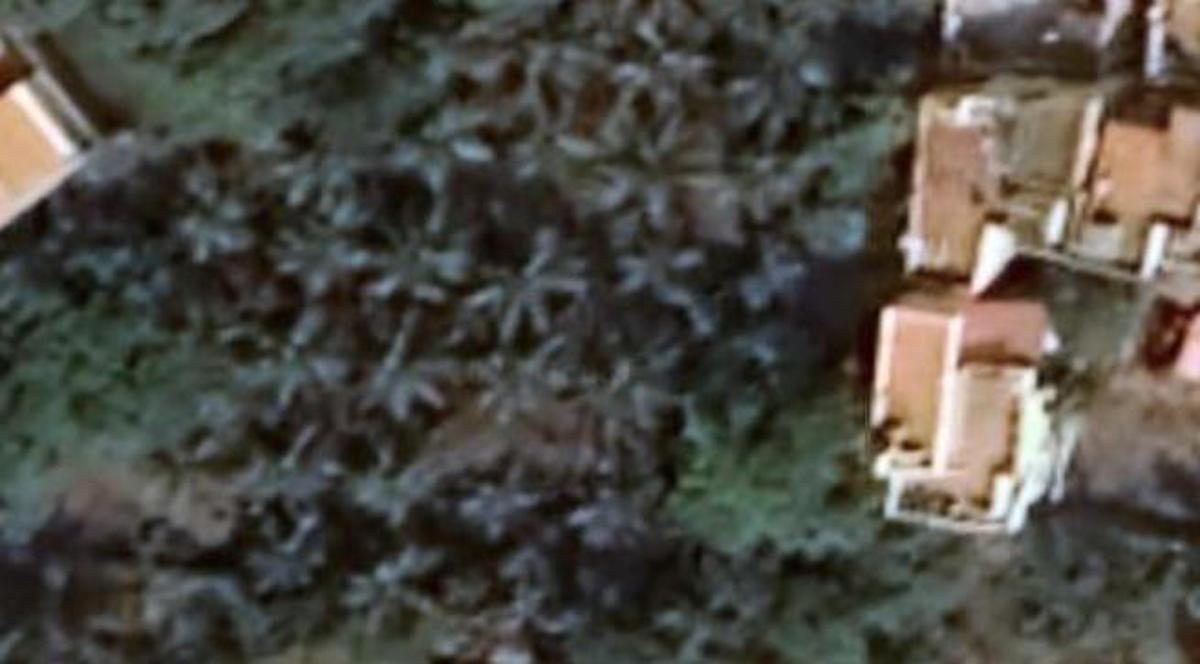coconut: (590, 111, 702, 219), (470, 232, 579, 329), (347, 323, 455, 418), (720, 42, 823, 139), (385, 96, 490, 188), (440, 449, 545, 541), (364, 206, 459, 307), (607, 12, 706, 107), (565, 460, 664, 550), (342, 433, 435, 528), (164, 157, 254, 254), (250, 307, 340, 404), (612, 215, 706, 307), (137, 428, 235, 514), (594, 334, 685, 426), (653, 574, 744, 664), (243, 504, 332, 596), (246, 393, 332, 486), (270, 215, 360, 303), (497, 98, 590, 182), (477, 559, 576, 636), (265, 128, 360, 208), (470, 336, 563, 417), (343, 550, 431, 634), (726, 232, 808, 314)
